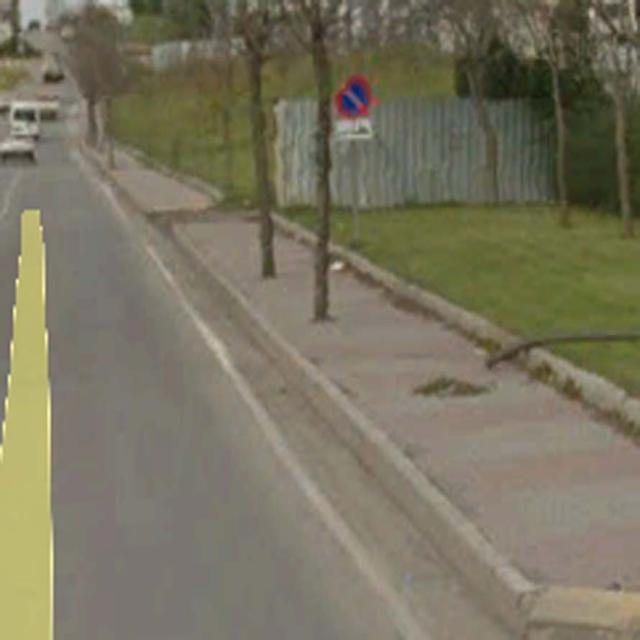parkyasak: (337, 76, 372, 118)
